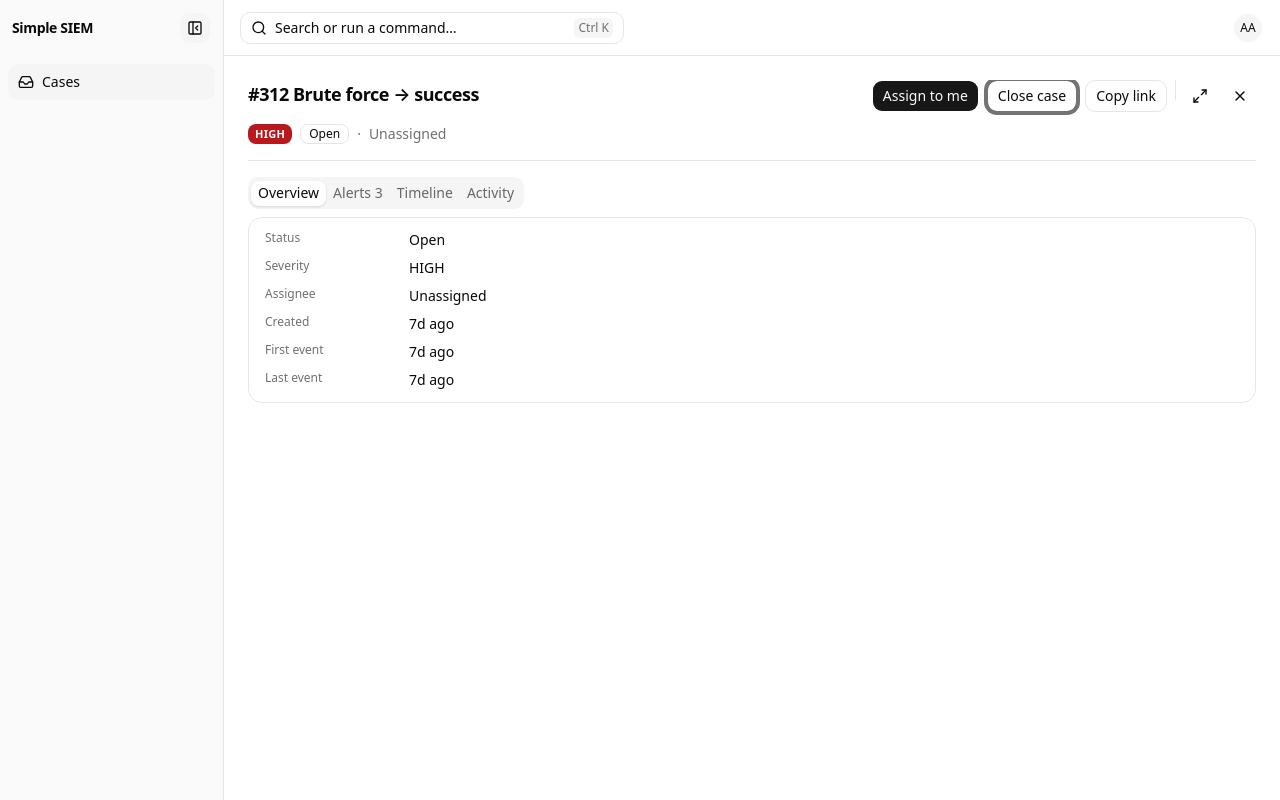
it: close case dialog › offers the seven reasons, not Merged, and sends the chosen values
Later steps or results of the test are not shown.
Click the button "Close case": (1032, 96) [987,80,1077,112]
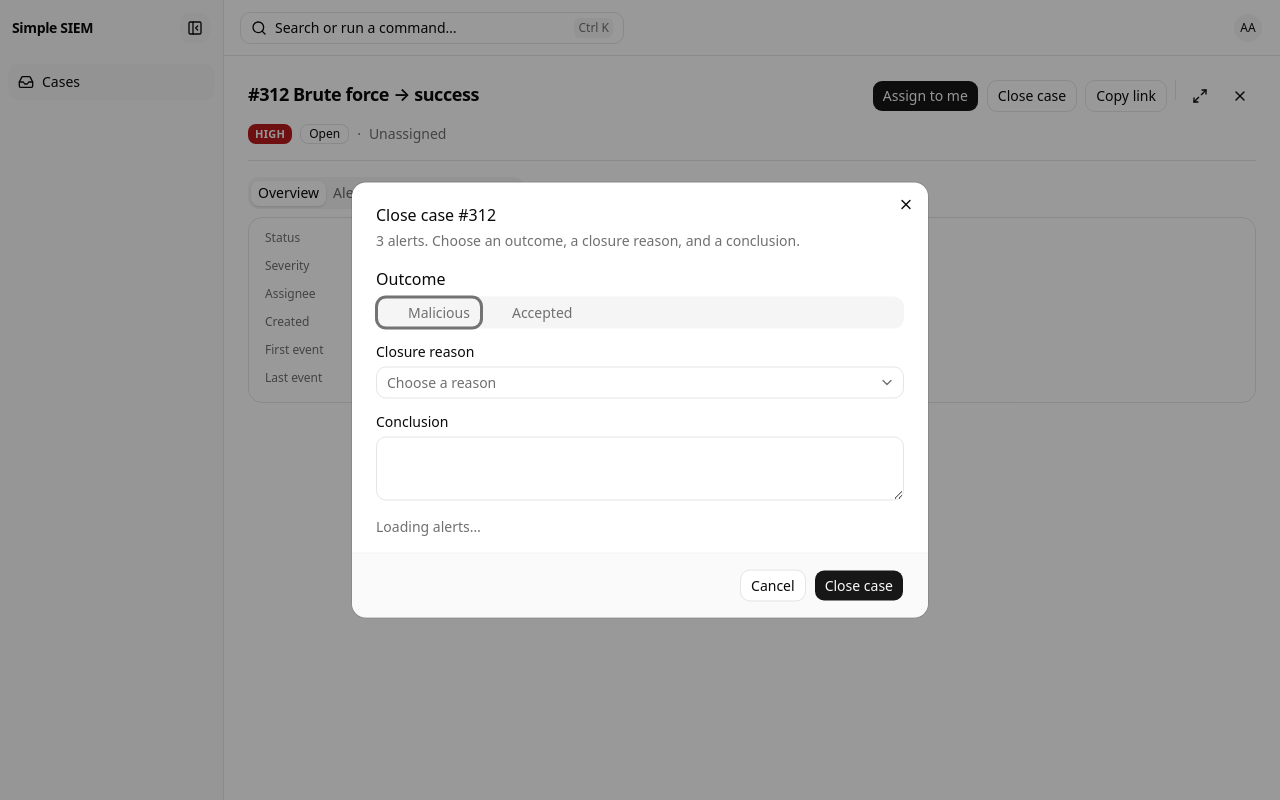
Expected: the dropdown named "Closure reason" reads "Choose a reason"
Press the mouse on the dropdown named "Closure reason": (442, 382) [376,366,904,398]
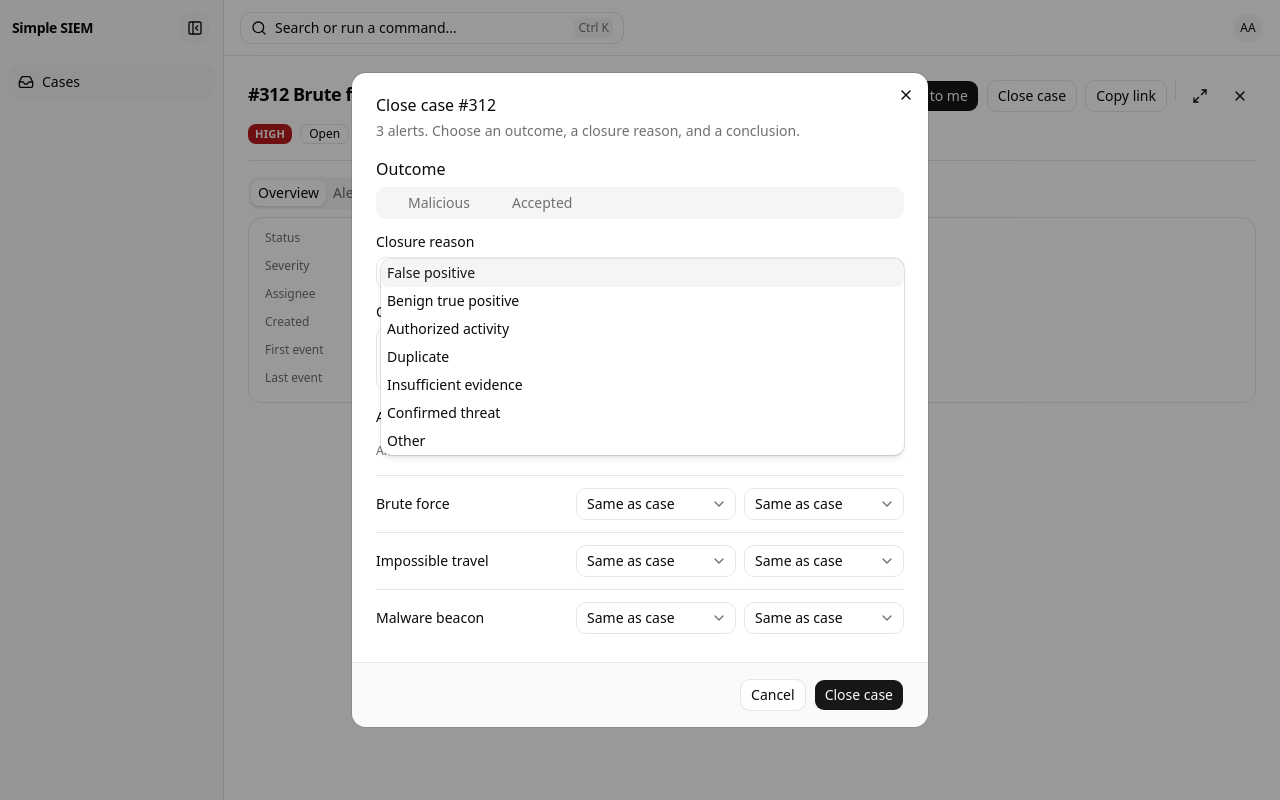
Click the option "Authorized activity": (448, 328) [387,319,509,338]
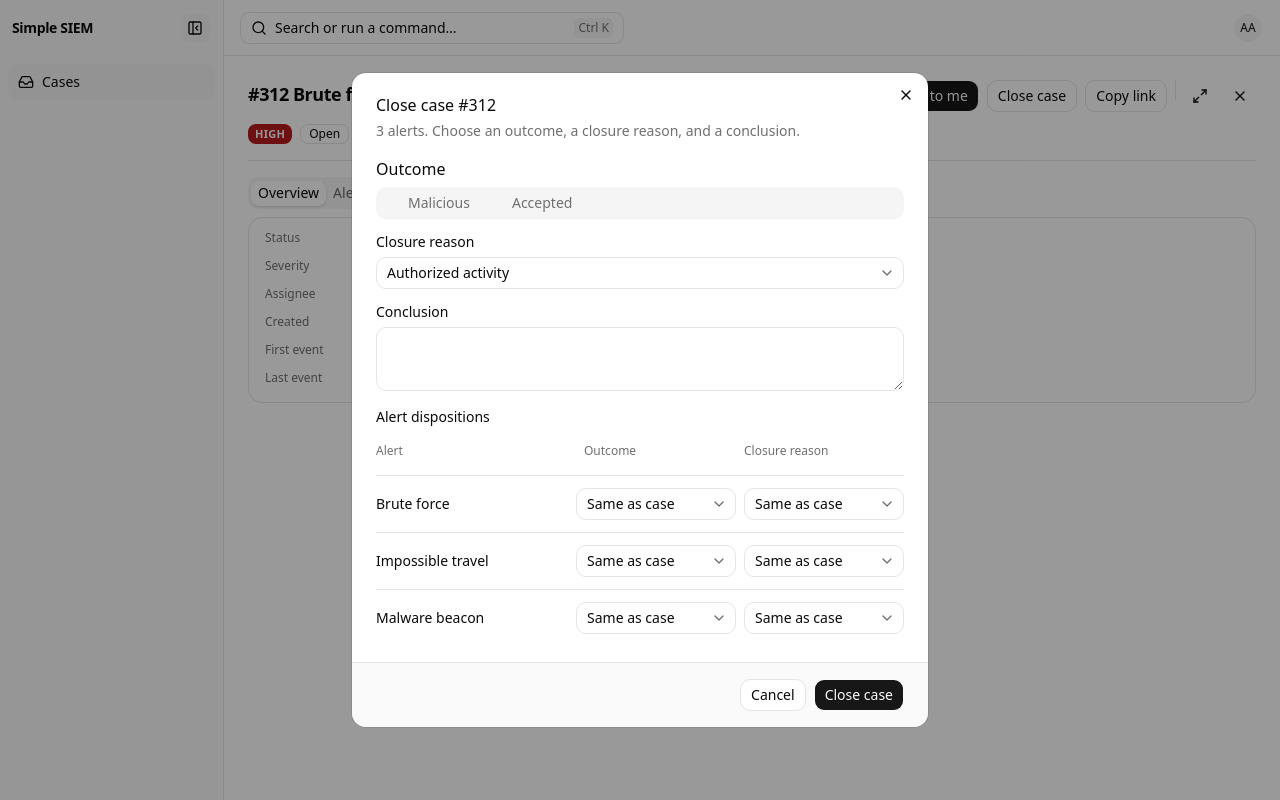
Expected: the dropdown named "Closure reason" reads "Authorized activity", [376,257,904,289]
